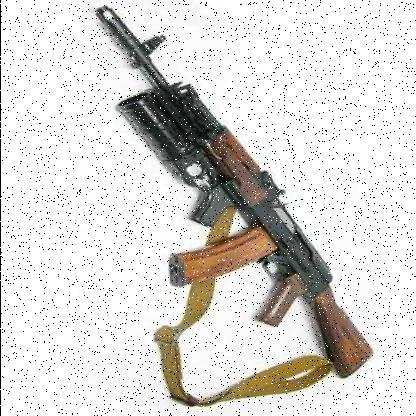rifle: (69, 2, 390, 378)
